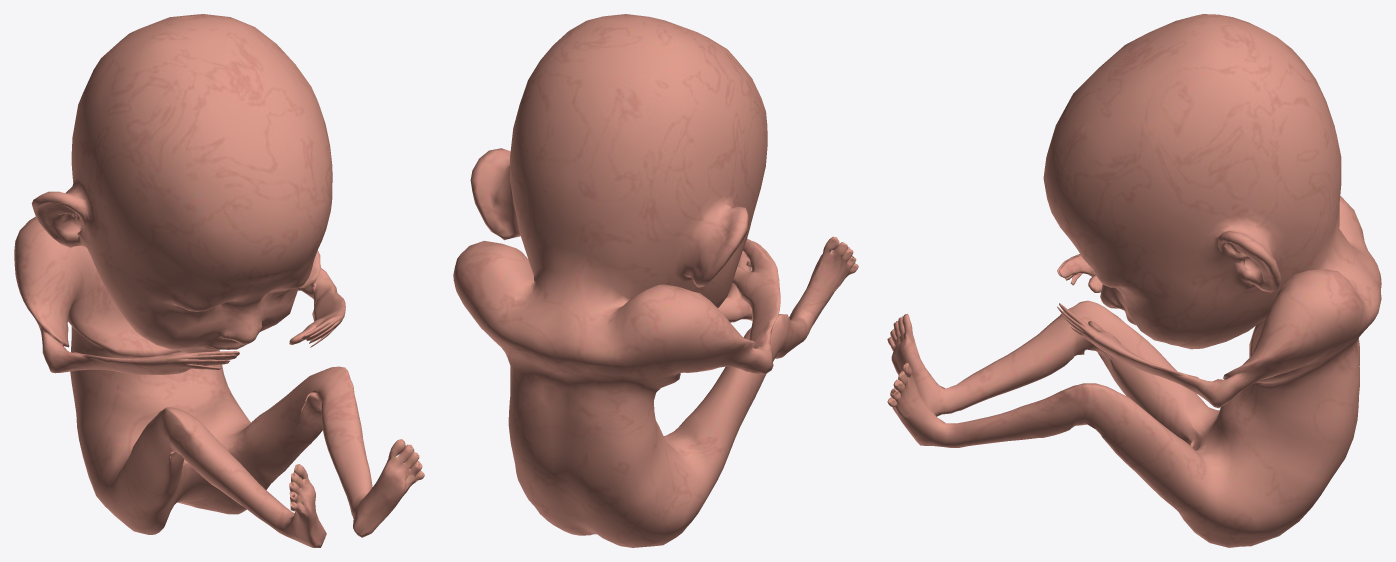
3 views of the same model, side by side, from view 1: azimuth 30°, elevation 25°; view 2: azimuth 150°, elevation 25°; view 3: azimuth 270°, elevation 25° (orthographic).
Parts seen in each view (by area): view 1: Baby; view 2: Baby; view 3: Baby.
Part boxes in pixels (<box>): Baby: <box>14,14,424,547</box>; Baby: <box>453,14,858,547</box>; Baby: <box>887,14,1381,547</box>.
Size of the model in its own units: 0.0437 by 0.0728 by 0.0651.
Materials: 1 (1 with a texture image).
